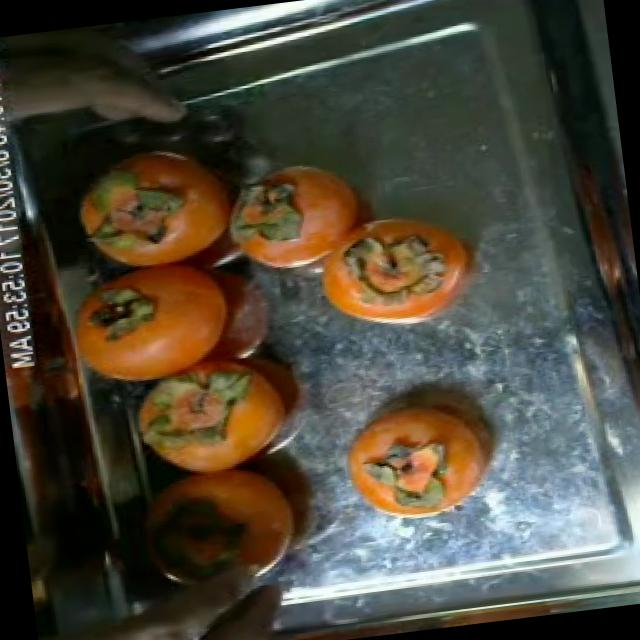Fruit: (49, 122, 272, 286), (317, 382, 468, 526)
